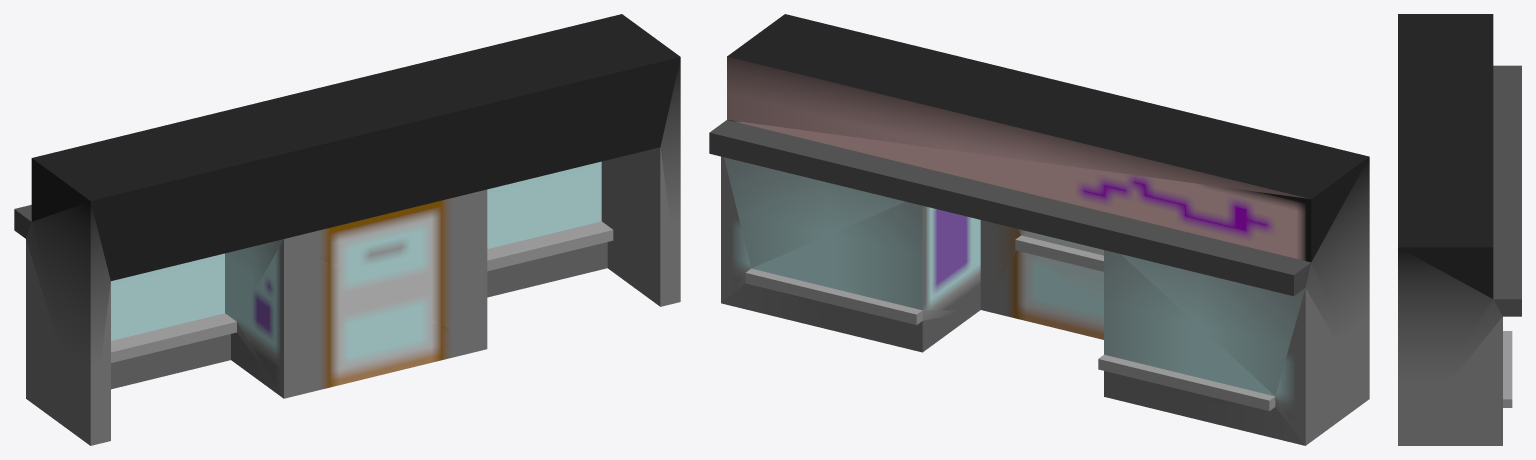
The model's file is obj_store1b.dae.
The picture shows the model from 3 angles, left to right: view 1: azimuth 30°, elevation 25°; view 2: azimuth 150°, elevation 25°; view 3: azimuth 270°, elevation 25°; orthographic projection. The views are drawn at different scales.
Visible parts, largest first — view 1: obj_store1b; view 2: obj_store1b; view 3: obj_store1b.
Boxes of the visible parts, <box> form: obj_store1b: <box>14,14,680,445</box>; obj_store1b: <box>709,14,1369,445</box>; obj_store1b: <box>1398,14,1521,445</box>.
Size of the model in its own units: 5.8 by 1.3 by 2.3.
Materials: 1 (1 with a texture image).
